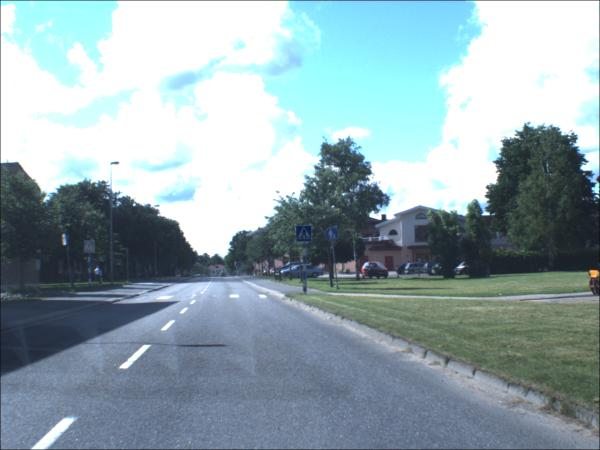PEDESTRIAN_CROSSING: (298, 228, 314, 244), (85, 241, 97, 255)
